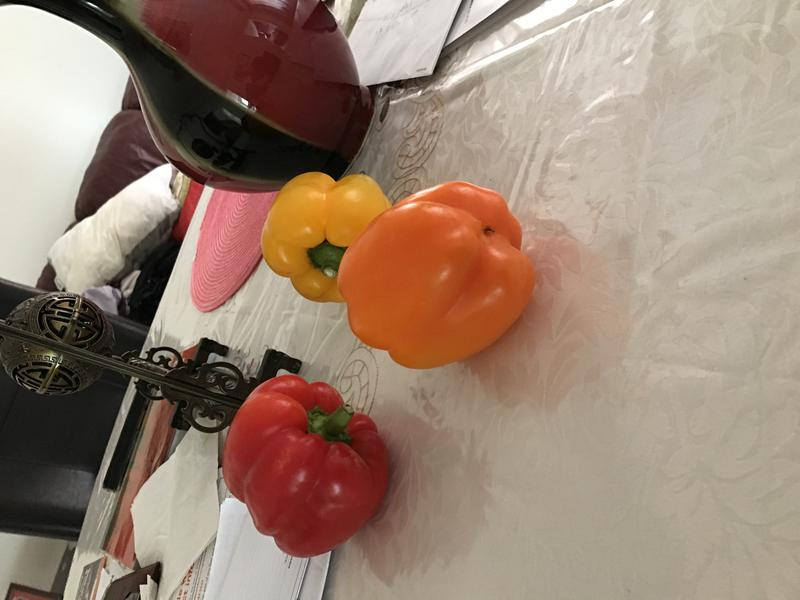orange_pepper: (333, 178, 541, 377)
red_pepper: (217, 375, 394, 562)
yellow_pepper: (257, 163, 403, 313)
